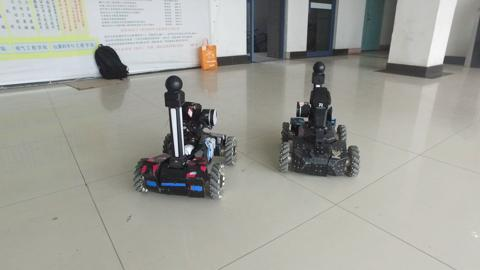chariot: (123, 69, 242, 208), (272, 61, 363, 184)
